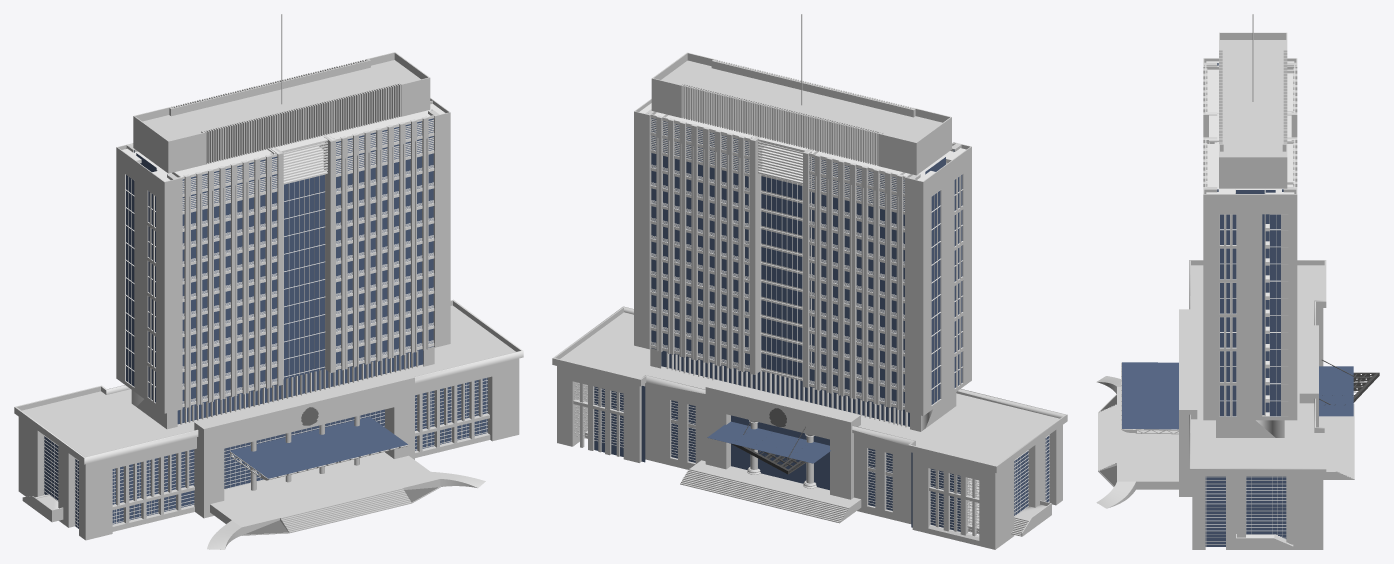
The model's file is zhengfudalou.FBX.
3 views of the same model, side by side, from view 1: azimuth 30°, elevation 25°; view 2: azimuth 150°, elevation 25°; view 3: azimuth 270°, elevation 25° (orthographic). The views are drawn at different scales.
Visible parts, largest first — view 1: Circle03, 对象02, Arc07, 网格40, Rectangle04, Rectangle161, 网格54, Line81, 图形52, 网格35, 网格16, Rectangle165 (+5 smaller); view 2: Circle03, 对象02, Arc07, Rectangle161, 网格54, 网格40, Line81, Rectangle05, 网格35, 网格16, Rectangle165, Rectangle189 (+7 smaller); view 3: Circle03, 对象02, Arc07, Rectangle04, Line81, Rectangle161, Rectangle05, 图形04, Line23, 网格40.
Part boxes in pixels (x1,y1,x2,y2): Circle03: [14, 52, 523, 540]; 对象02: [44, 118, 487, 528]; Arc07: [207, 452, 485, 549]; 网格40: [131, 115, 434, 407]; Rectangle04: [230, 417, 407, 478]; Rectangle161: [125, 174, 325, 403]; 网格54: [182, 165, 433, 404]; Line81: [122, 104, 445, 181]; 图形52: [43, 433, 297, 526]; 网格35: [336, 119, 433, 174]; 网格16: [182, 158, 277, 211]; Rectangle165: [300, 350, 418, 395]; Circle03: [552, 52, 1067, 549]; 对象02: [594, 118, 1049, 531]; Arc07: [680, 460, 861, 523]; Rectangle161: [760, 174, 963, 405]; 网格54: [651, 164, 904, 406]; 网格40: [650, 114, 956, 409]; Line81: [639, 103, 966, 380]; Rectangle05: [707, 421, 830, 463]; 网格35: [651, 117, 749, 173]; 网格16: [809, 156, 904, 211]; Rectangle165: [666, 352, 786, 396]; Rectangle189: [788, 377, 907, 427]; Circle03: [1179, 32, 1326, 549]; 对象02: [1205, 63, 1286, 546]; Arc07: [1096, 376, 1354, 508]; Rectangle04: [1122, 362, 1178, 429]; Line81: [1206, 61, 1294, 416]; Rectangle161: [1219, 214, 1287, 416]; Rectangle05: [1319, 366, 1353, 416]; 图形04: [1205, 477, 1286, 544]; Line23: [1319, 359, 1379, 404]; 网格40: [1205, 64, 1295, 187].
Bounding box in the file's own units: 105747 × 99703 × 58527.
